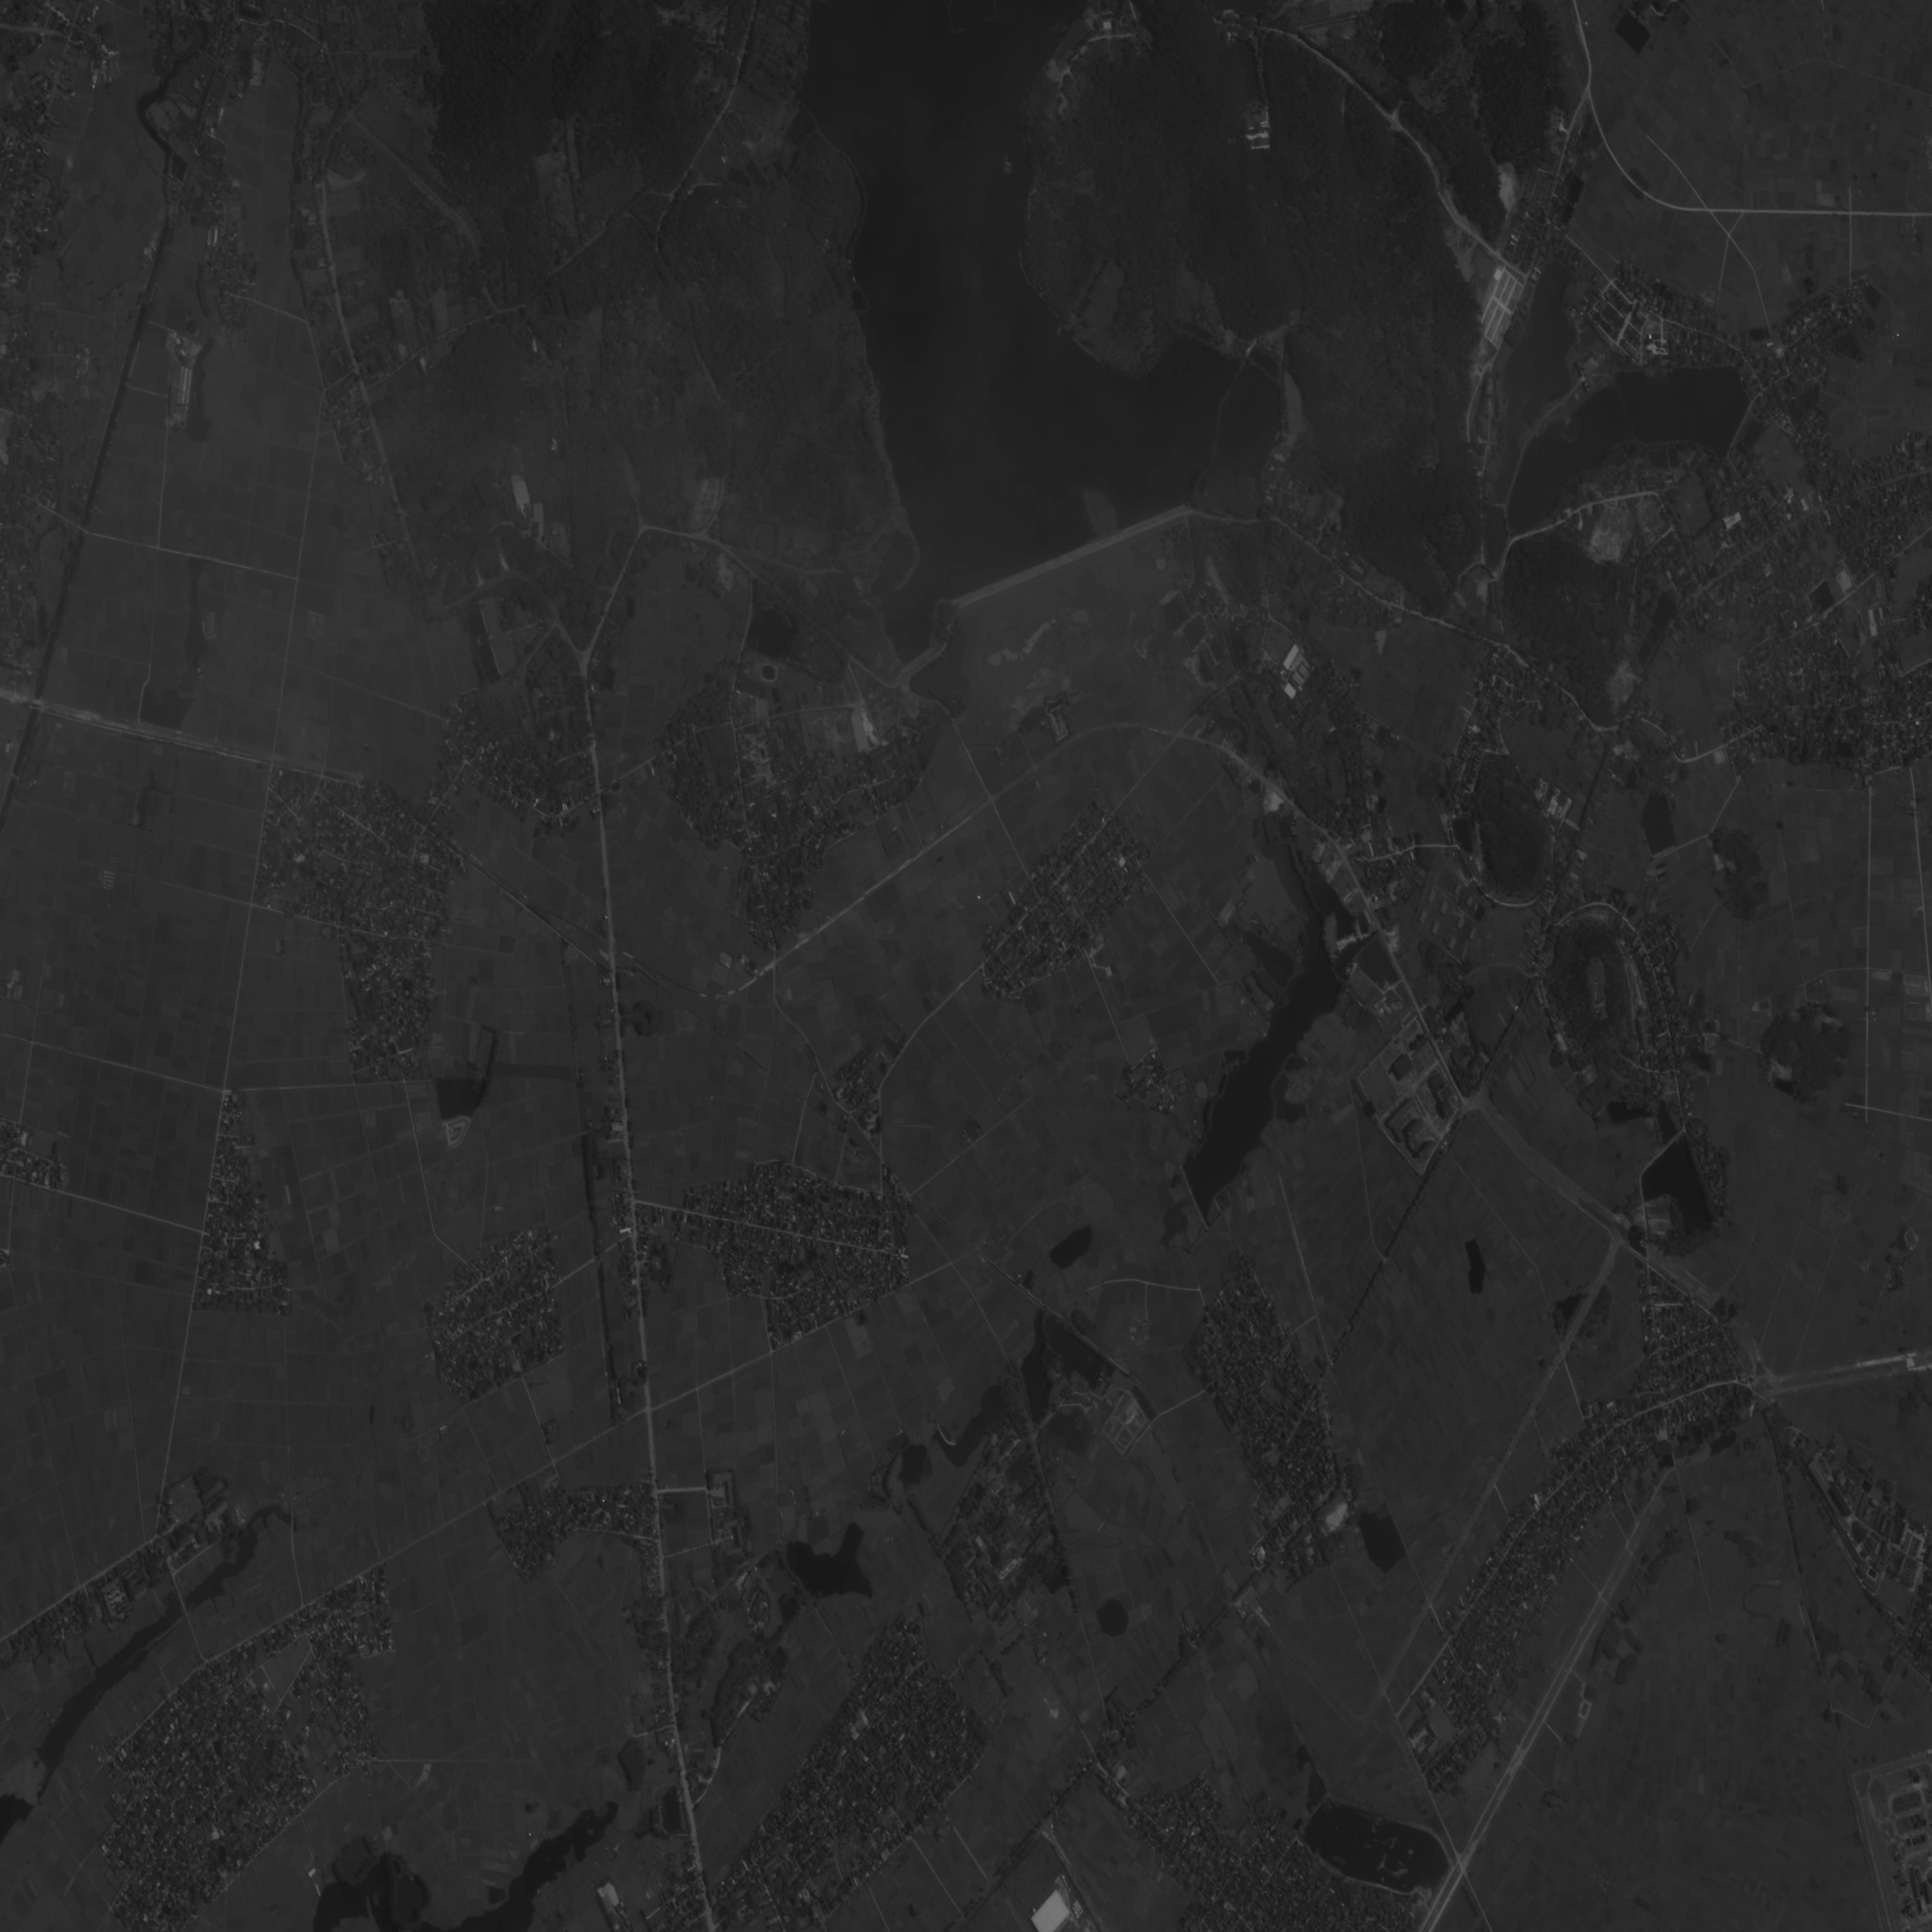bridge: (177, 1592, 191, 1621), (288, 1514, 295, 1530), (30, 697, 41, 708), (28, 704, 41, 713), (78, 525, 87, 536)
